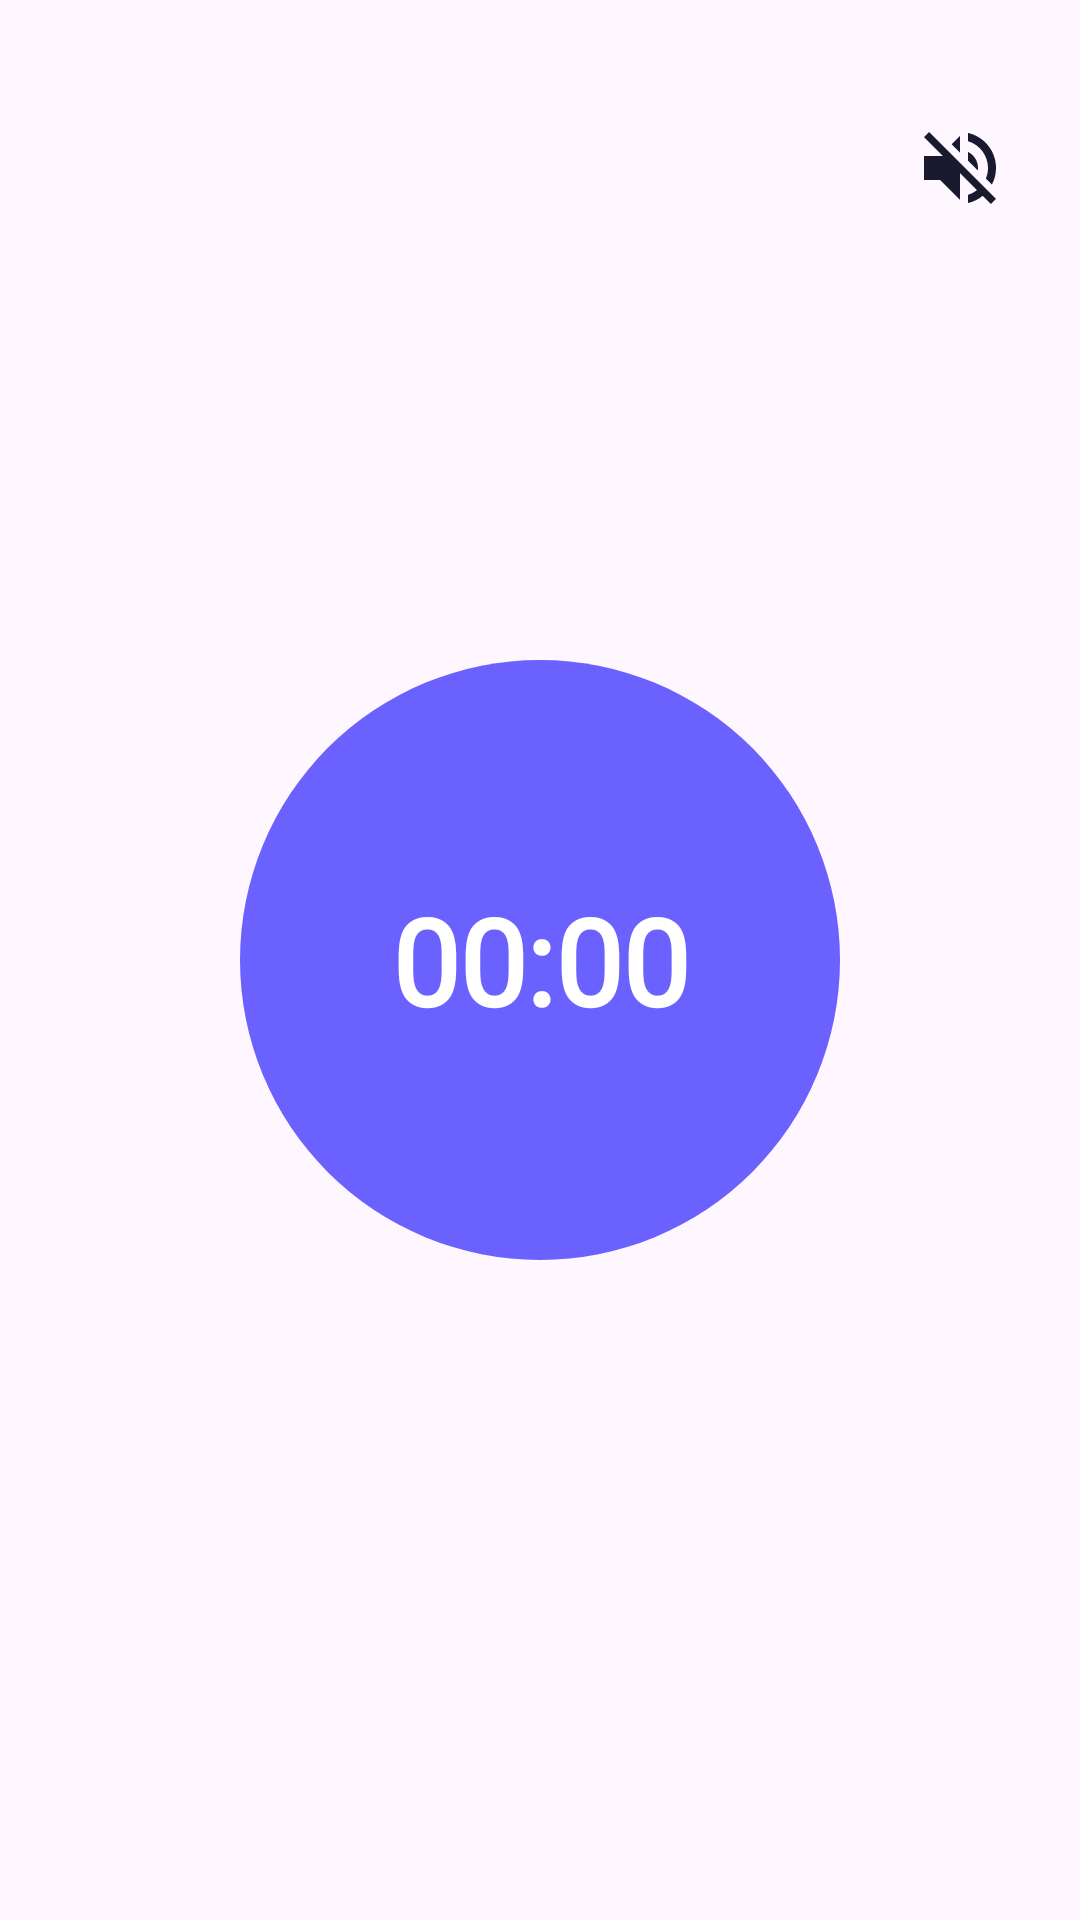

Named icons in this screenshot (1080x1920) and their bounding boxes, (x1, y1, x2, y2):
volume off: (924, 132, 996, 204)
